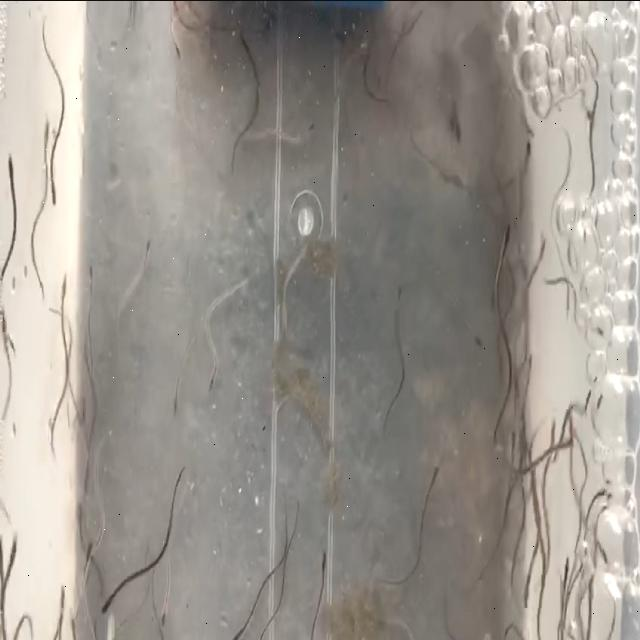active_glass_eel: (56, 574, 78, 622), (4, 529, 28, 571), (82, 520, 105, 560), (223, 606, 249, 640), (593, 480, 611, 528), (81, 255, 99, 302), (134, 228, 156, 266), (298, 115, 320, 152), (257, 402, 273, 452), (422, 460, 440, 504), (3, 146, 20, 192), (52, 276, 72, 313), (204, 352, 223, 388), (462, 324, 482, 356), (584, 99, 598, 143), (386, 282, 404, 316), (38, 110, 56, 142), (316, 547, 332, 581), (520, 137, 536, 171), (560, 422, 576, 452), (521, 578, 534, 610), (167, 386, 180, 416), (594, 316, 606, 348), (560, 552, 572, 584), (47, 179, 62, 204), (154, 605, 170, 627), (498, 226, 511, 253), (230, 18, 246, 38), (100, 592, 112, 617), (82, 466, 92, 496), (510, 418, 518, 451)
